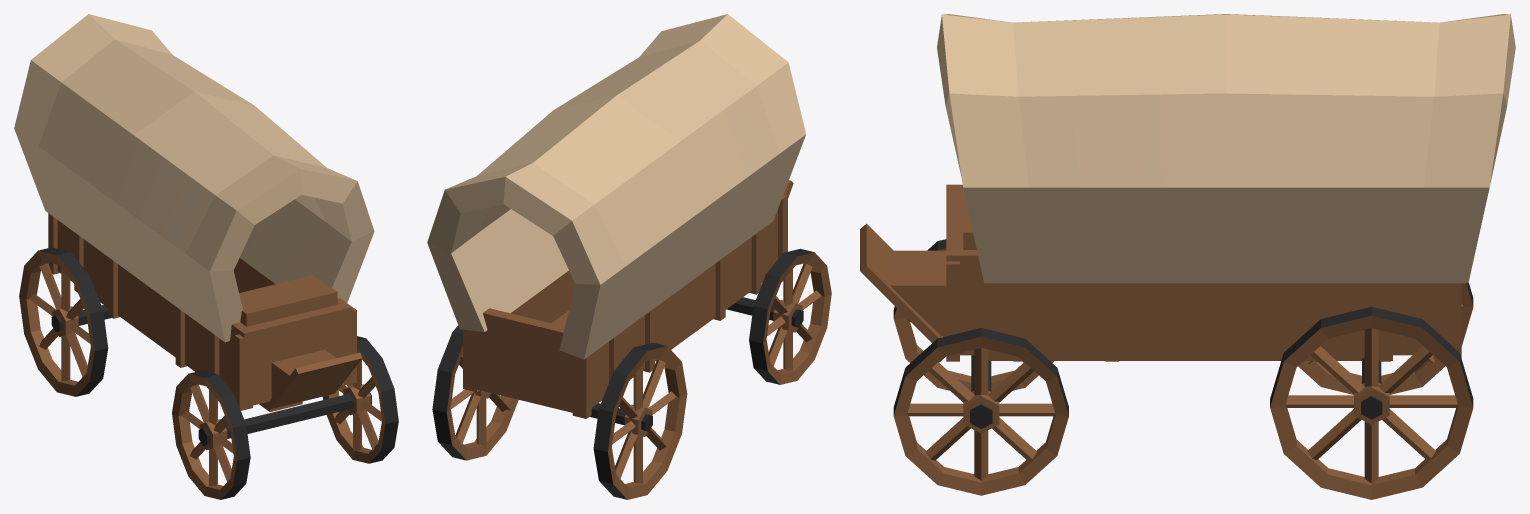
The model's file is western_horse-wagon.fbx.
The picture shows the model from 3 angles, left to right: view 1: azimuth 30°, elevation 25°; view 2: azimuth 150°, elevation 25°; view 3: azimuth 270°, elevation 25°; orthographic projection. The views are drawn at different scales.
Parts seen in each view (by area): view 1: wagon_base, wagon_wheels_front, wagon_wheels_back; view 2: wagon_base, wagon_wheels_back, wagon_wheels_front; view 3: wagon_base, wagon_wheels_back, wagon_wheels_front.
Boxes of the visible parts, box(x1,y1,x2,y2) form: wagon_base: box(14, 14, 374, 411); wagon_wheels_front: box(172, 336, 398, 499); wagon_wheels_back: box(19, 247, 111, 396); wagon_base: box(427, 14, 806, 418); wagon_wheels_back: box(432, 325, 687, 499); wagon_wheels_front: box(726, 248, 831, 384); wagon_base: box(860, 14, 1515, 361); wagon_wheels_back: box(1270, 283, 1473, 499); wagon_wheels_front: box(893, 239, 1068, 495).
Bounding box in the file's own units: 80.14 × 145 × 200.
